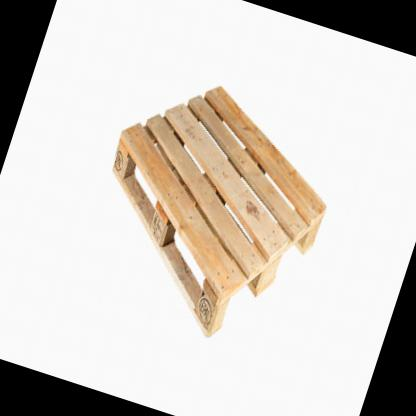BoxFace: (106, 85, 328, 343)
